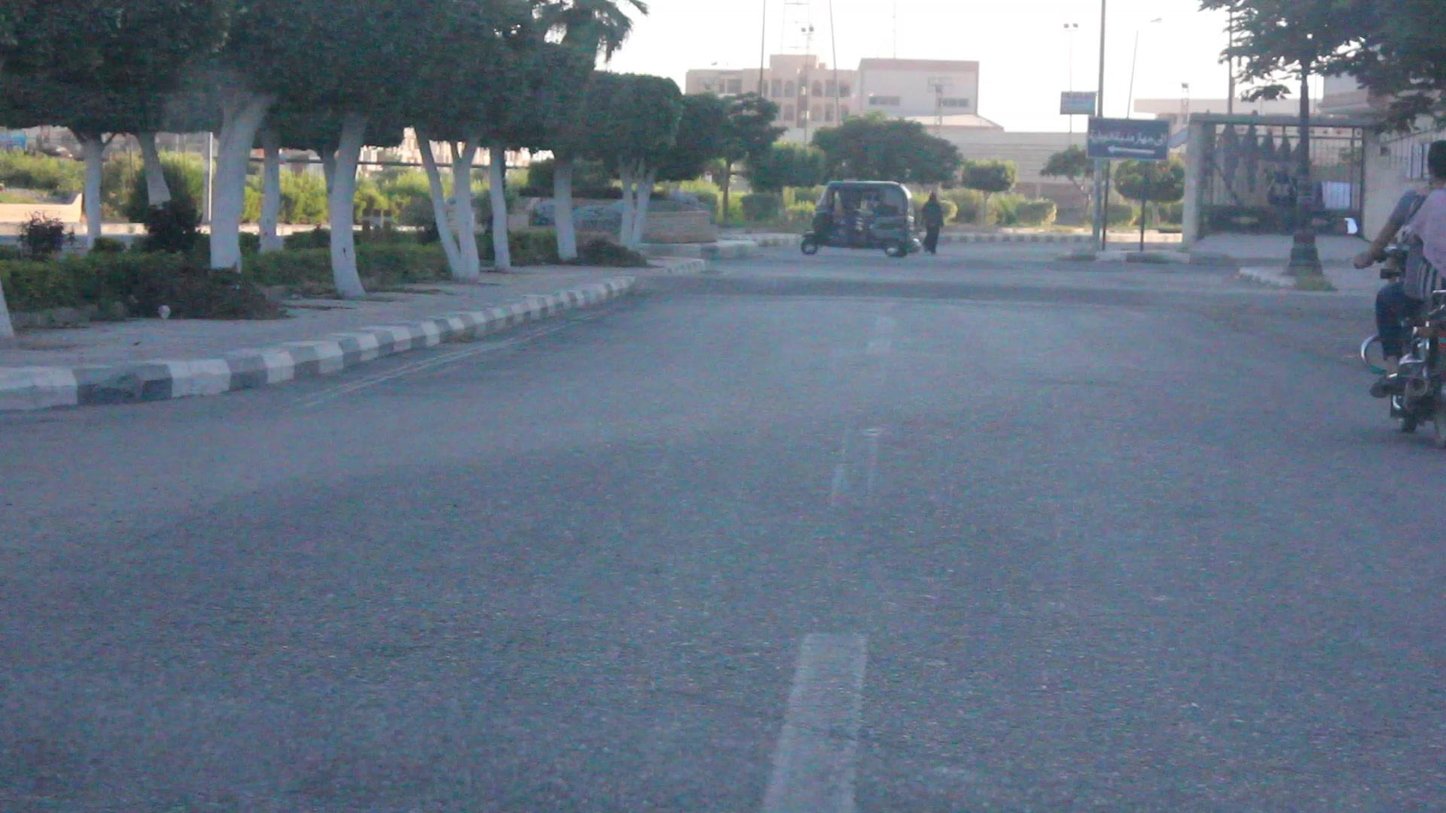Bump: (633, 262, 1165, 305)
